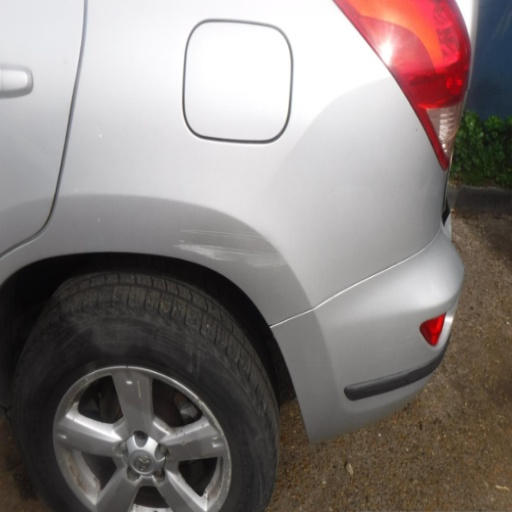dent: (416, 169, 435, 198)
rust: (161, 374, 226, 443), (58, 447, 92, 500), (202, 450, 232, 510), (64, 370, 100, 414), (159, 419, 188, 437), (125, 463, 143, 485), (177, 471, 195, 492), (129, 504, 173, 512), (109, 440, 125, 460), (91, 472, 101, 502), (178, 436, 201, 448), (147, 380, 153, 406), (136, 380, 142, 401), (165, 447, 173, 462), (161, 495, 169, 505), (201, 423, 206, 429)
scratch: (172, 239, 290, 271), (178, 228, 267, 241), (93, 126, 105, 140), (96, 210, 102, 224), (73, 185, 80, 195)
